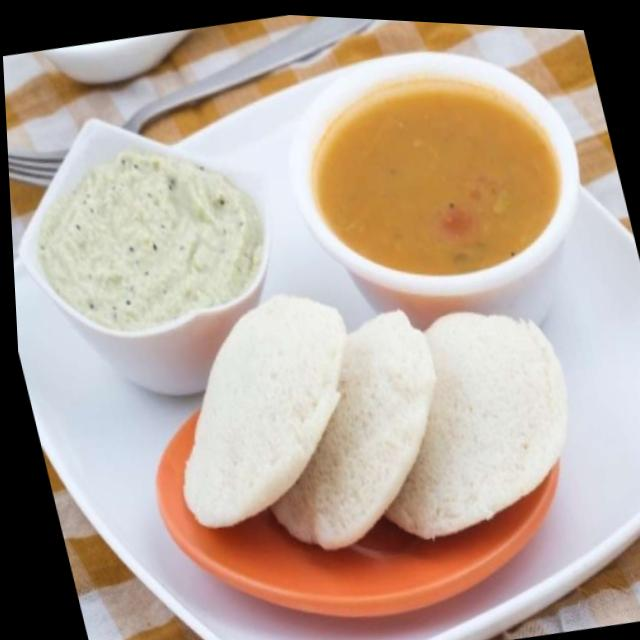IDLI: (180, 290, 572, 549)
SAMBAR: (314, 79, 562, 274)
WHITE CHUTNEY: (33, 150, 261, 334)
